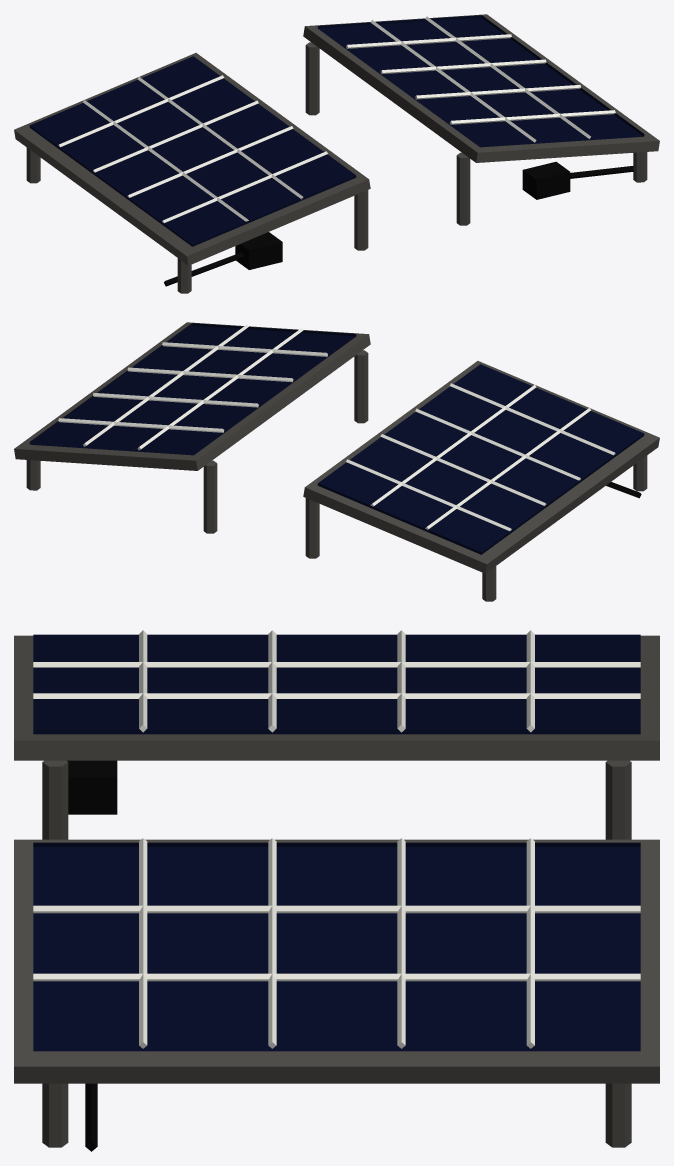
The model's file is tb_upg_solar_array.glb.
3 renders of one model, top to bottom at view 1: azimuth 30°, elevation 25°; view 2: azimuth 150°, elevation 25°; view 3: azimuth 270°, elevation 25°, orthographic. The views are drawn at different scales.
Parts seen in each view (by area): view 1: tb_upg_solar_array_mesh; view 2: tb_upg_solar_array_mesh; view 3: tb_upg_solar_array_mesh.
Boxes of the visible parts, <box> form: tb_upg_solar_array_mesh: <box>14,14,659,293</box>; tb_upg_solar_array_mesh: <box>14,322,659,601</box>; tb_upg_solar_array_mesh: <box>14,630,659,1151</box>.
Bounding box in the file's own units: 1.98 × 0.3302 × 1.25.
